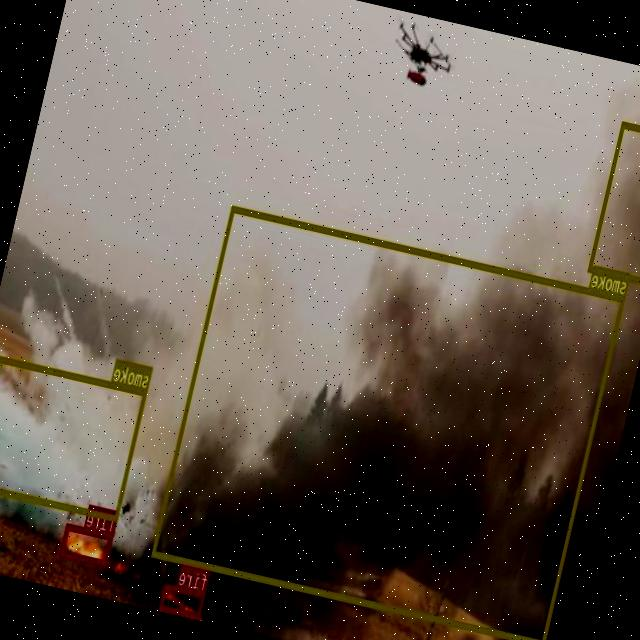fire: (60, 522, 114, 566), (160, 583, 207, 618)
smoke: (151, 203, 626, 640), (0, 355, 148, 520), (588, 121, 640, 285)
